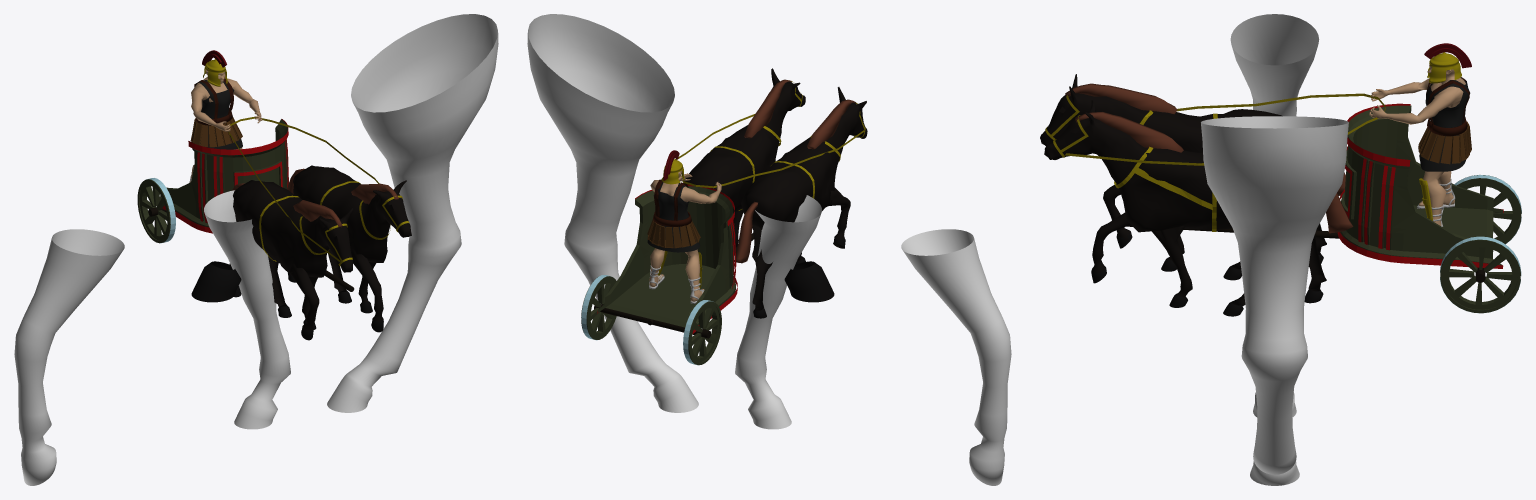
Rendered from chariot3.obj.
3 renders of one model, left to right at view 1: azimuth 30°, elevation 25°; view 2: azimuth 150°, elevation 25°; view 3: azimuth 270°, elevation 25°, orthographic. The views are drawn at different scales.
Parts seen in each view (by area): view 1: Circle.002_Circle.003_None, Circle_Circle_None, Circle.001_Circle.002_None, horse_body_Cube.001_horse_body, horse_body.001_Cube.000_horse_body, chariot_Circle.012_lightwood, chariot.001_Circle.039_chariot_outline, hoof_Circle.007_hoof, wheel.001_Circle.015_lightwood, Human.000_body.000_skin_player, armor_upper_leg_Cube.016_armor_upper_leg, Circle.003_Circle.025_clothes (+5 smaller); view 2: Circle.002_Circle.003_None, Circle_Circle_None, chariot_Circle.012_lightwood, Circle.001_Circle.002_None, horse_body_Cube.001_horse_body, horse_body.001_Cube.000_horse_body, Human.000_body.000_skin_player, wheel.001_Circle.015_lightwood, hoof_Circle.007_hoof, wheel_Circle.013_lightwood, armor_upper_leg_Cube.016_armor_upper_leg, Circle.003_Circle.025_clothes (+9 smaller); view 3: Circle.002_Circle.003_None, chariot_Circle.012_lightwood, horse_body.001_Cube.000_horse_body, Circle_Circle_None, horse_body_Cube.001_horse_body, wheel_Circle.013_lightwood, chariot.001_Circle.039_chariot_outline, Human.000_body.000_skin_player, armor_upper_leg_Cube.016_armor_upper_leg, Circle.003_Circle.025_clothes, wheel.001_Circle.015_lightwood, tail.002_Plane.003_tail (+11 smaller).
Part boxes in pixels (x1,y1,x2,y2): Circle.002_Circle.003_None: (327,14,498,412); Circle_Circle_None: (14,229,124,485); Circle.001_Circle.002_None: (204,190,290,429); horse_body_Cube.001_horse_body: (233,180,353,277); horse_body.001_Cube.000_horse_body: (293,165,411,262); chariot_Circle.012_lightwood: (159,119,288,227); chariot.001_Circle.039_chariot_outline: (162,119,288,233); hoof_Circle.007_hoof: (191,261,241,302); wheel.001_Circle.015_lightwood: (137,179,170,243); Human.000_body.000_skin_player: (190,69,262,182); armor_upper_leg_Cube.016_armor_upper_leg: (190,117,242,147); Circle.003_Circle.025_clothes: (192,80,242,150); Circle.002_Circle.003_None: (527,14,698,412); Circle_Circle_None: (901,229,1011,485); chariot_Circle.012_lightwood: (597,186,735,329); Circle.001_Circle.002_None: (735,195,821,429); horse_body_Cube.001_horse_body: (741,87,867,230); horse_body.001_Cube.000_horse_body: (683,68,805,212); Human.000_body.000_skin_player: (649,170,721,301); wheel.001_Circle.015_lightwood: (688,301,721,365); hoof_Circle.007_hoof: (784,261,834,302); wheel_Circle.013_lightwood: (581,276,616,339); armor_upper_leg_Cube.016_armor_upper_leg: (647,219,700,248); Circle.003_Circle.025_clothes: (647,182,700,252); Circle.002_Circle.003_None: (1201,116,1348,485); chariot_Circle.012_lightwood: (1340,105,1502,265); horse_body.001_Cube.000_horse_body: (1044,100,1232,232); Circle_Circle_None: (1230,14,1319,116); horse_body_Cube.001_horse_body: (1040,74,1282,152); wheel_Circle.013_lightwood: (1440,239,1520,313); chariot.001_Circle.039_chariot_outline: (1337,103,1503,268); Human.000_body.000_skin_player: (1369,65,1465,225); armor_upper_leg_Cube.016_armor_upper_leg: (1418,121,1471,164); Circle.003_Circle.025_clothes: (1419,77,1470,171); wheel.001_Circle.015_lightwood: (1456,175,1521,243); tail.002_Plane.003_tail: (1075,112,1183,152).
Bounding box in the file's own units: 6.45 × 4.56 × 4.57.
